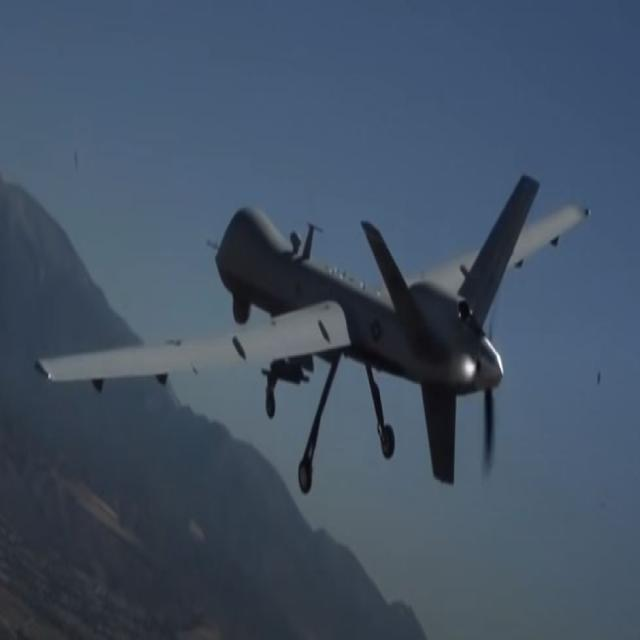iha: (34, 164, 592, 488)
